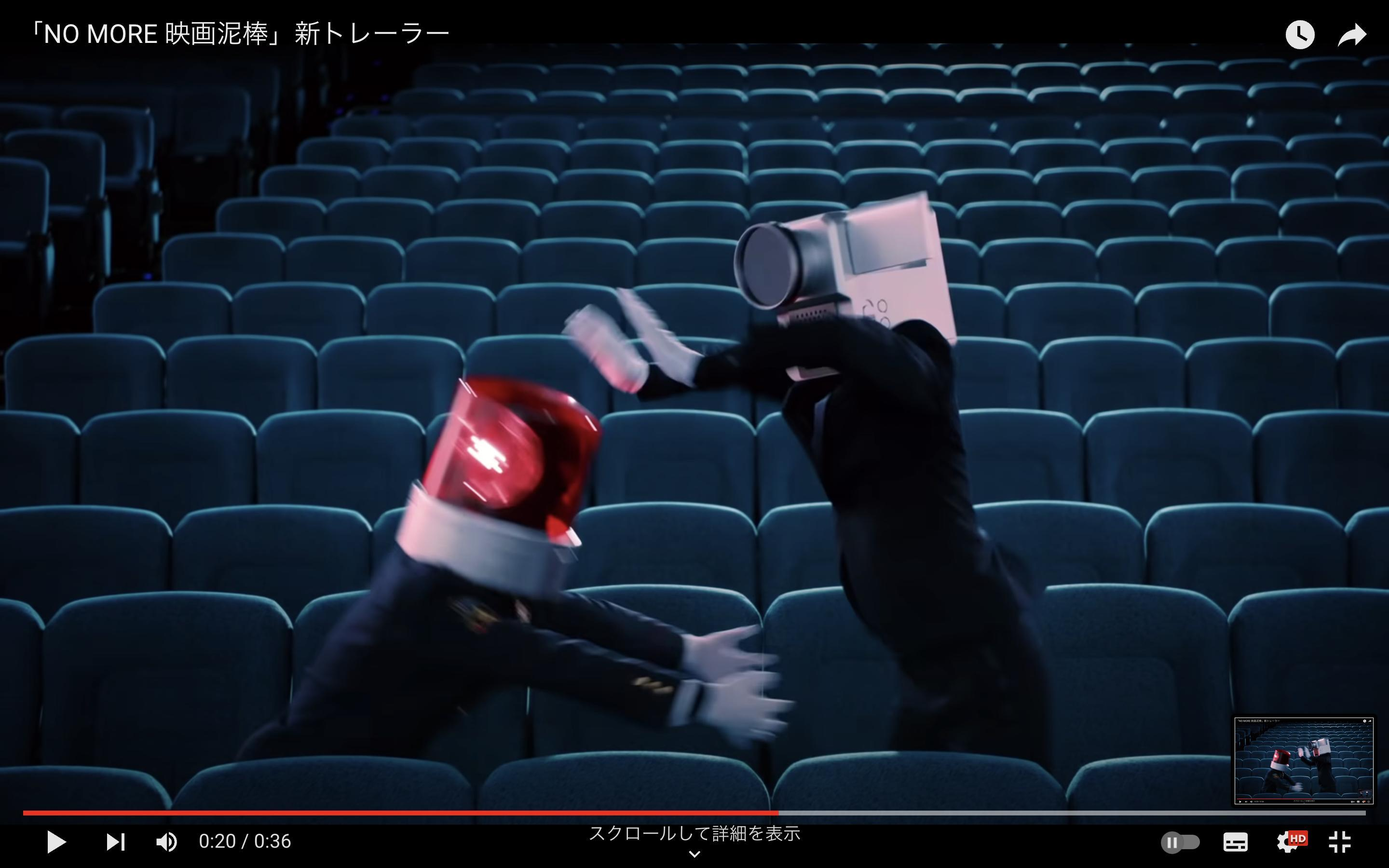no more kid: (719, 185, 972, 366)
